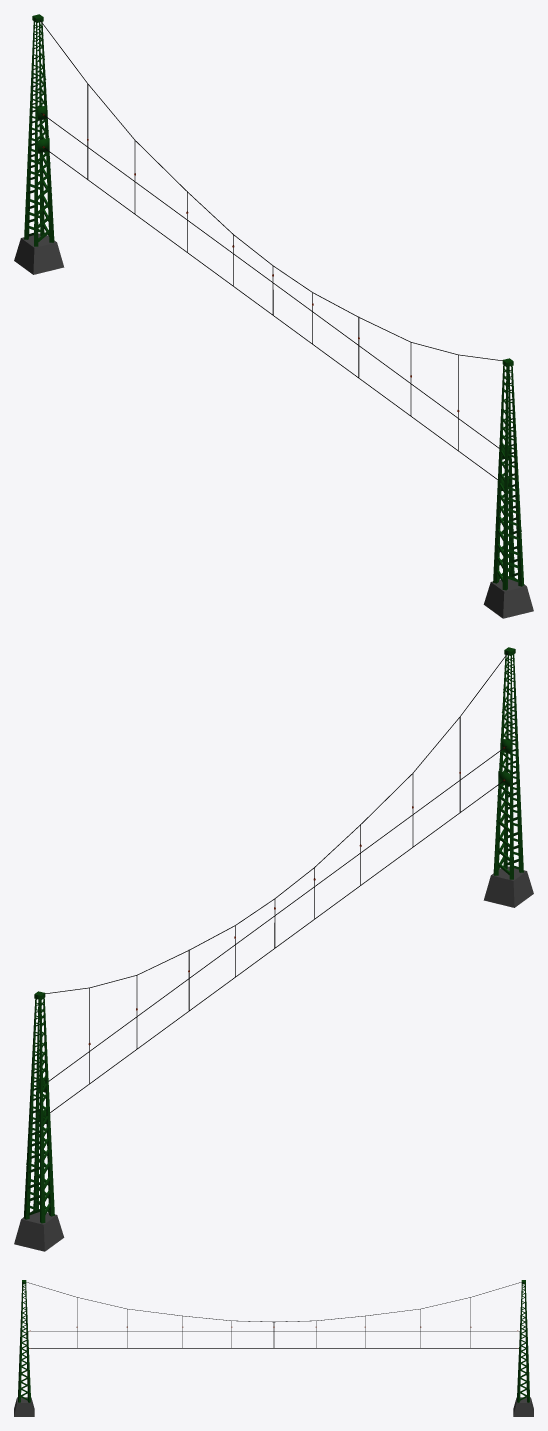
Rendered from Poles_1_30m.obj.
3 views of the same model, one above another, from view 1: azimuth 30°, elevation 25°; view 2: azimuth 150°, elevation 25°; view 3: azimuth 270°, elevation 25° (orthographic). The views are drawn at different scales.
Parts seen in each view (by area): view 1: PoleBig30m_Cube_Cube.007; view 2: PoleBig30m_Cube_Cube.007; view 3: PoleBig30m_Cube_Cube.007.
Boxes of the visible parts, x1=… form: PoleBig30m_Cube_Cube.007: x1=14, y1=14, x2=533, y2=618; PoleBig30m_Cube_Cube.007: x1=14, y1=647, x2=533, y2=1251; PoleBig30m_Cube_Cube.007: x1=14, y1=1280, x2=533, y2=1416.
Bounding box in the file's own units: 1.58 × 12.1 × 43.3.
